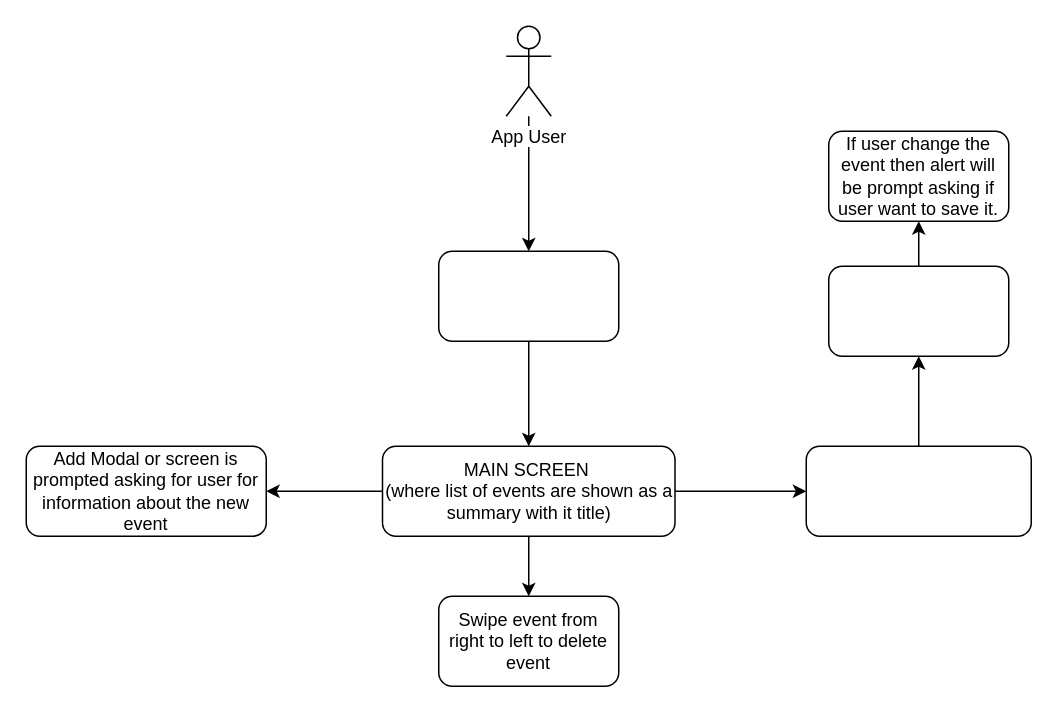
Some shapes in this 1058 by 713 pixel diagram are drawn without their labels. Here are the shapes that lost their labels. From the top down, the centre of each, then its label:
At [528,295]: "Splash Screen".
At [918,310]: "Tap on go back button to redirected user back to the main screen".
At [918,490]: "Tap on event for viewing the full detail of the events".
